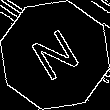N_SE: (25, 23, 85, 87)
